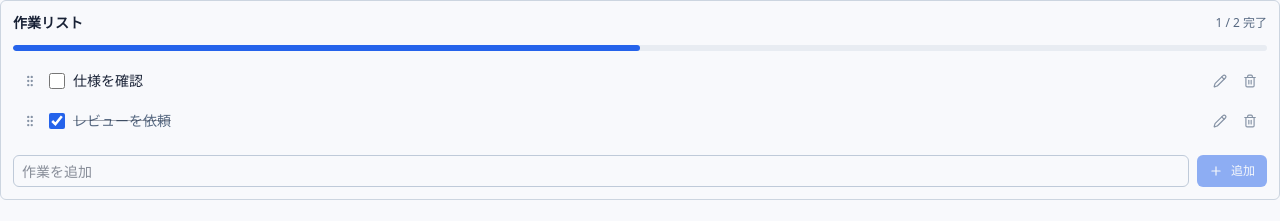
Test case: TaskWorkList › タイトルをクリックして編集した内容をキャンセルすると元の作業内容を保持する
The image size is (1280, 221).
Click the button "仕様を確認" at (108, 80), box [73,71,1201,91]
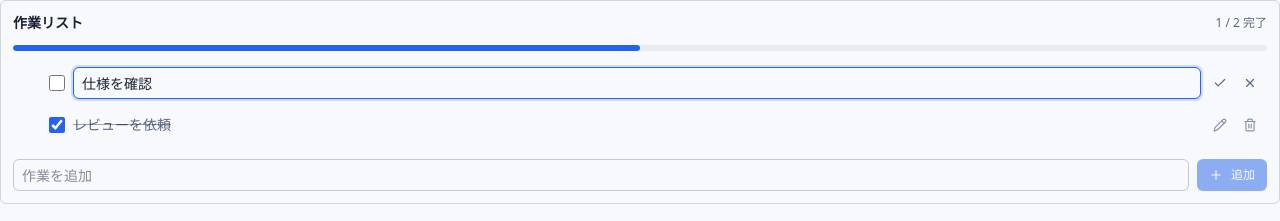
Replace the text in the field named "作業内容" with "保存しない変更" at (637, 83), box [73,67,1201,99]
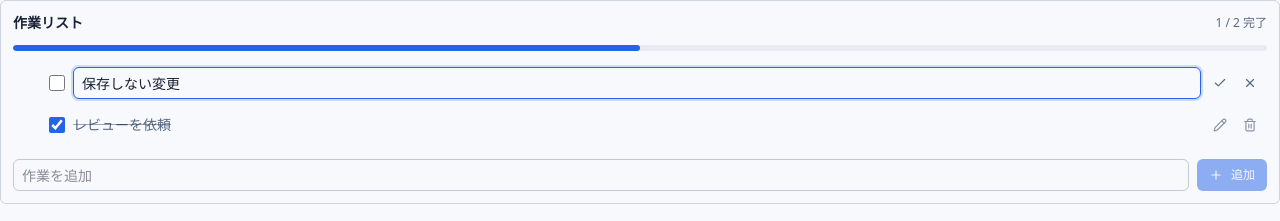
Click the button named "「仕様を確認」の編集をキャンセル" at (1250, 83), box [1239,72,1261,94]
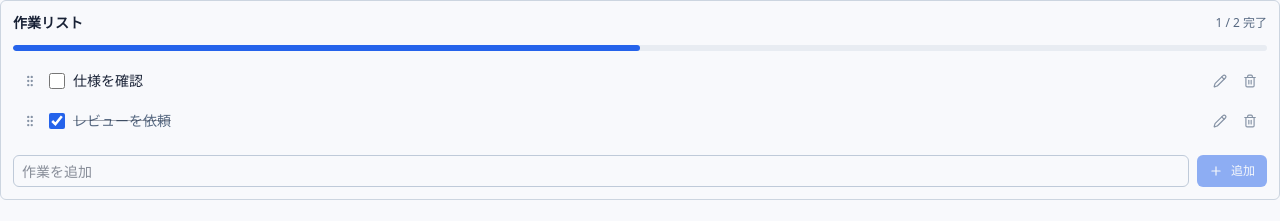
Expected: the field labelled "作業内容" is not shown
Result: the button "仕様を確認" is shown
Click the button "仕様を確認" at (108, 80), box [73,71,1201,91]
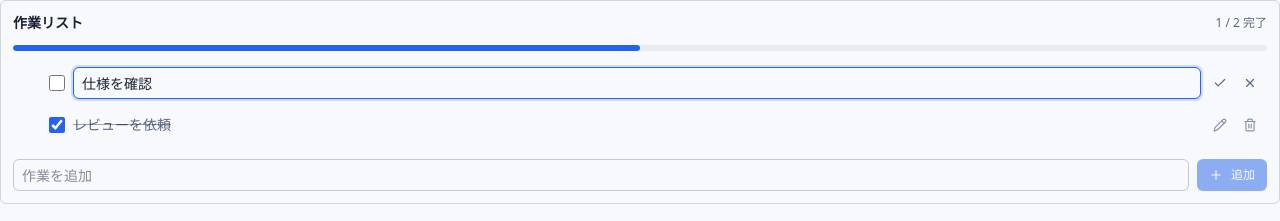
Result: the field named "作業内容" holds "仕様を確認" at [73,67,1201,99]
